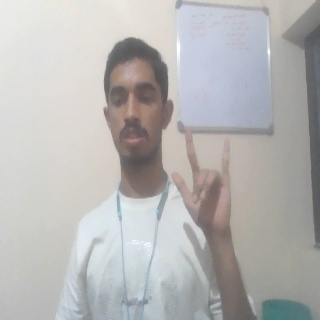Face: (100, 36, 175, 165)
I Love You: (171, 125, 234, 238)
